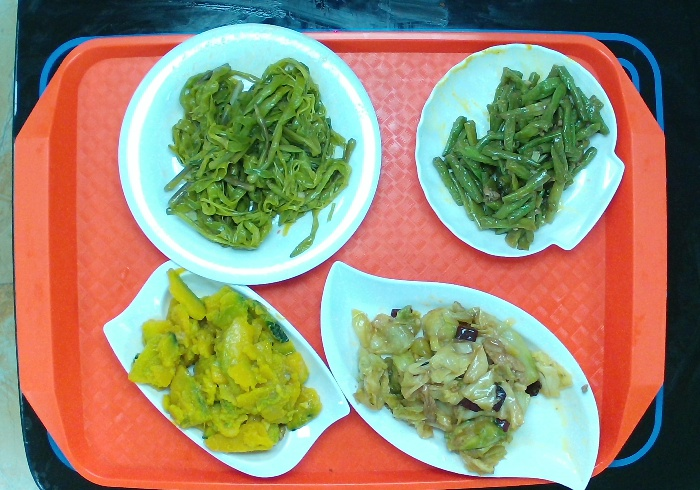RJxy-Bei_Ke_Wan: (403, 38, 629, 267)
RJxy-Jian_Jiao_Fang_Die: (101, 255, 354, 482)
RJxy-Jian_Jiao_Pan: (315, 254, 606, 488)
RJxy-Yuan_Pan: (114, 21, 388, 290)
